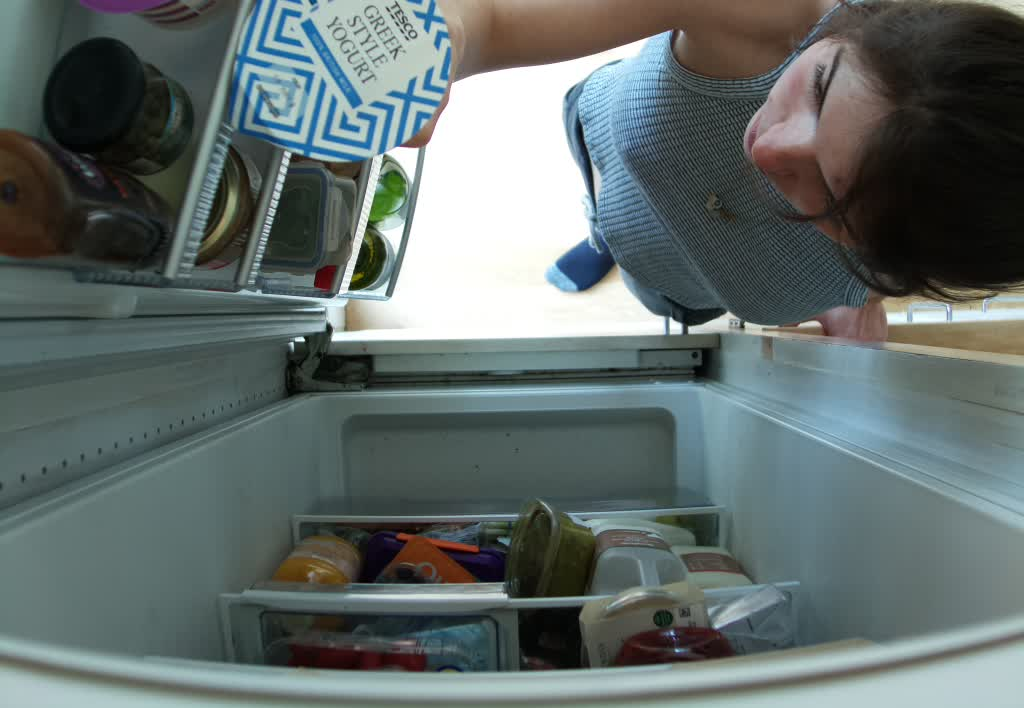yogurt: (222, 1, 461, 178)
